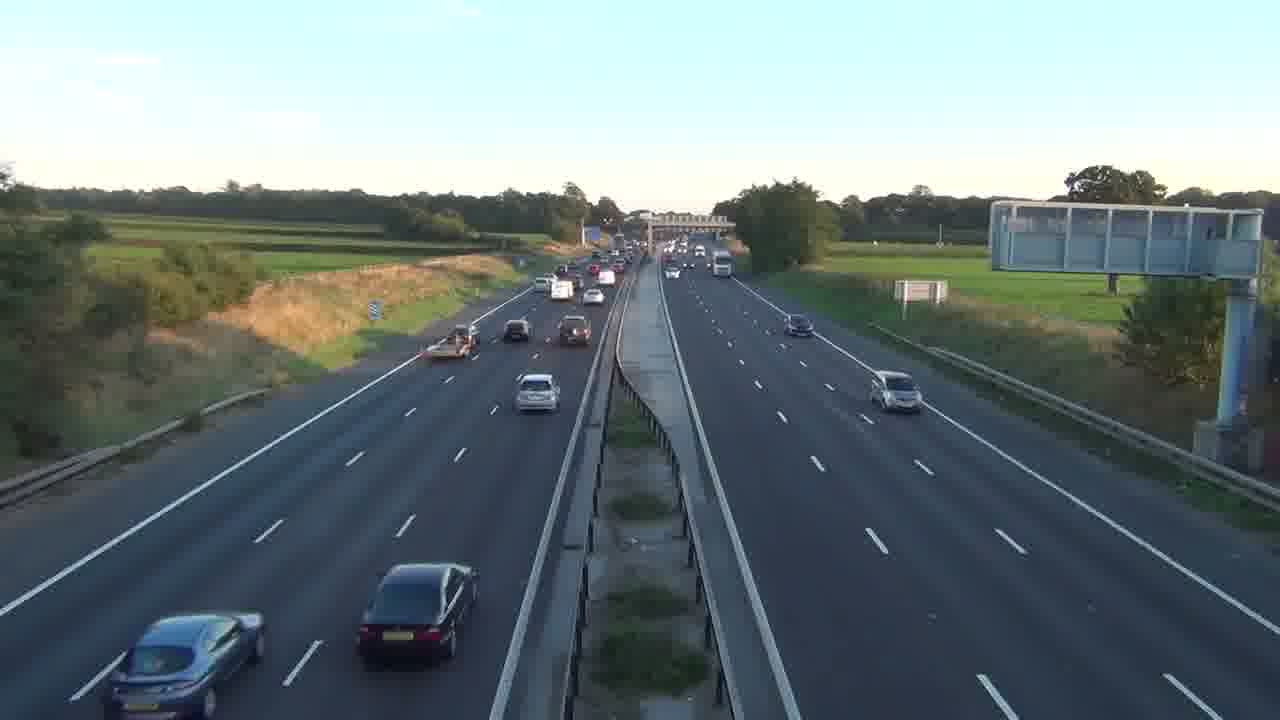car: (102, 609, 266, 718), (355, 561, 481, 667), (513, 372, 560, 414), (558, 315, 592, 346), (503, 319, 530, 342)
